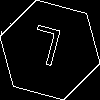L: (25, 25, 64, 76)
